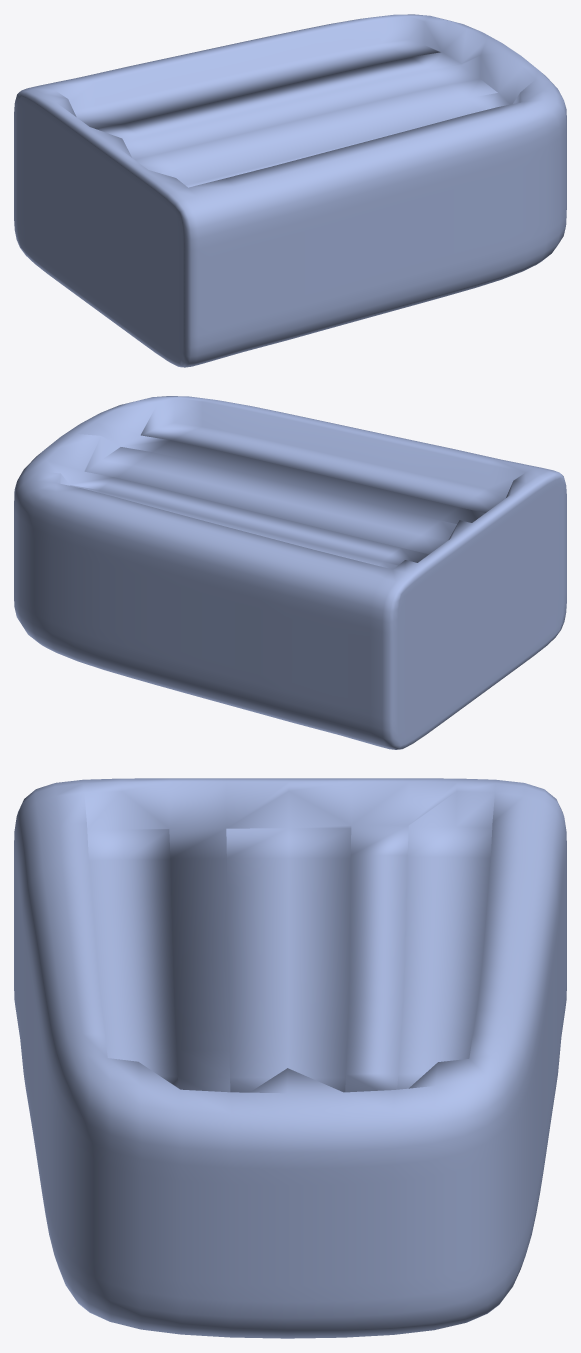
The model's file is SlimeRupa5.fbx.
3 renders of one model, top to bottom at view 1: azimuth 30°, elevation 25°; view 2: azimuth 150°, elevation 25°; view 3: azimuth 270°, elevation 25°, orthographic. The views are drawn at different scales.
Visible parts, largest first — view 1: Slime; view 2: Slime; view 3: Slime.
Part boxes in pixels (x1=…): Slime: x1=14, y1=14, x2=566, y2=367; Slime: x1=14, y1=396, x2=566, y2=749; Slime: x1=14, y1=778, x2=566, y2=1338.
Bounding box in the file's own units: 0.4401 × 0.1682 × 0.3147.
